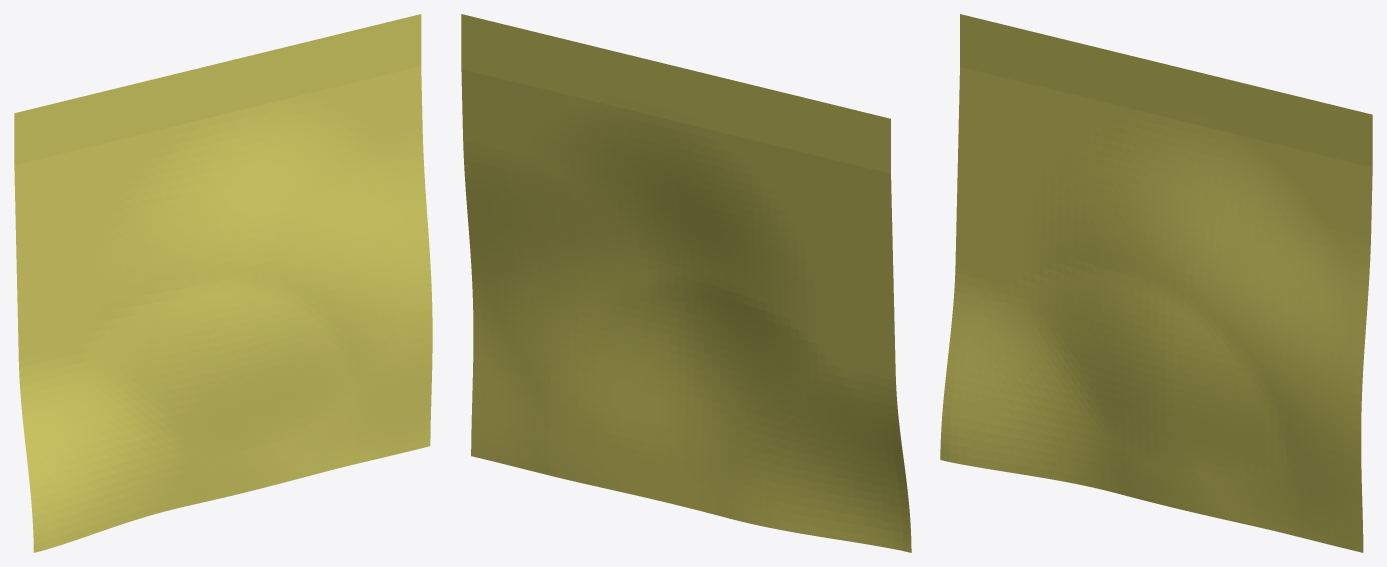
3 renders of one model, left to right at view 1: azimuth 30°, elevation 25°; view 2: azimuth 150°, elevation 25°; view 3: azimuth 330°, elevation 25°, orthographic. The views are drawn at different scales.
Parts seen in each view (by area): view 1: sticky note; view 2: sticky note; view 3: sticky note.
Boxes of the visible parts, x1,y1,x2,y2 form: sticky note: (14,14,432,552); sticky note: (461,14,911,552); sticky note: (940,14,1372,552).
Size of the model in its own units: 1.93 by 1.93 by 0.1597.
